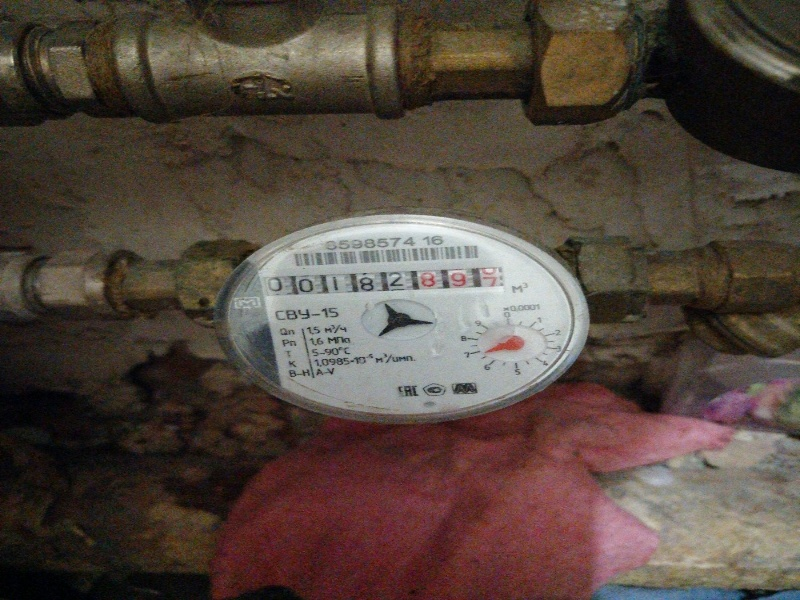meter: (261, 263, 505, 294)
